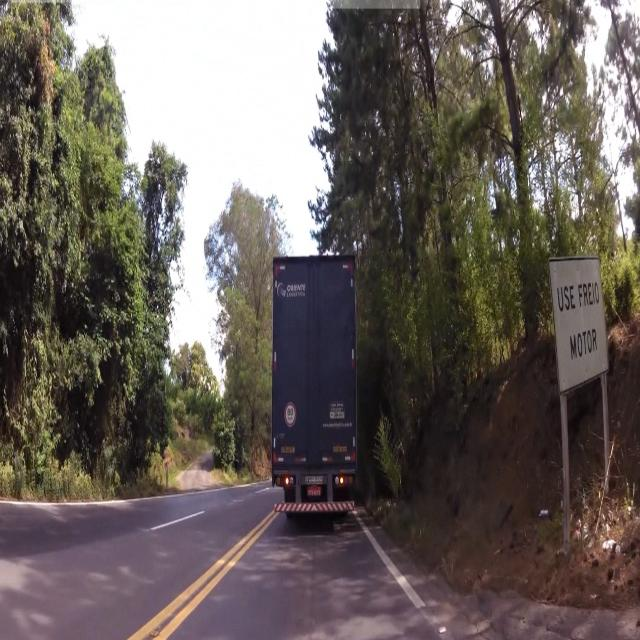E-5: (545, 264, 613, 384)
